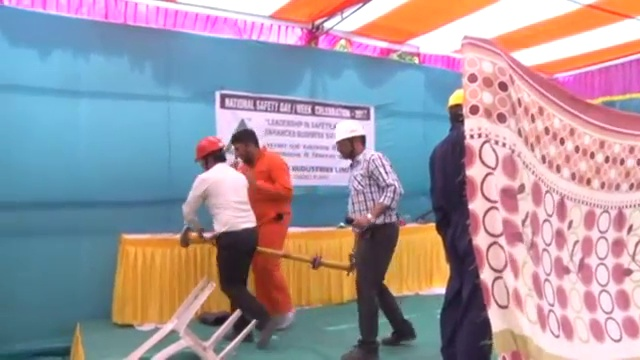helmet: (192, 134, 225, 163), (333, 119, 368, 143), (446, 85, 469, 111)
helmet_off: (228, 128, 261, 160)
helmet_on: (330, 118, 369, 162), (191, 134, 227, 174), (445, 84, 467, 132)
person: (330, 118, 417, 360), (179, 135, 272, 348), (428, 84, 492, 360), (228, 128, 297, 330)
